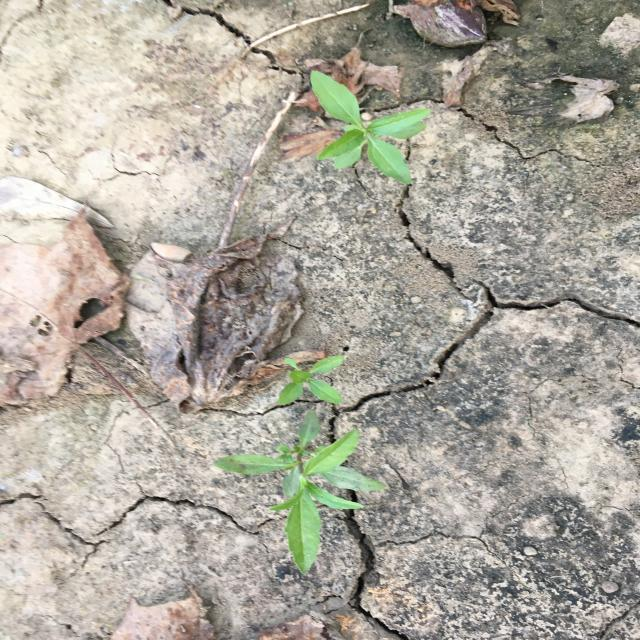Eclipta: (210, 407, 389, 577), (308, 68, 433, 186), (278, 353, 346, 407)
